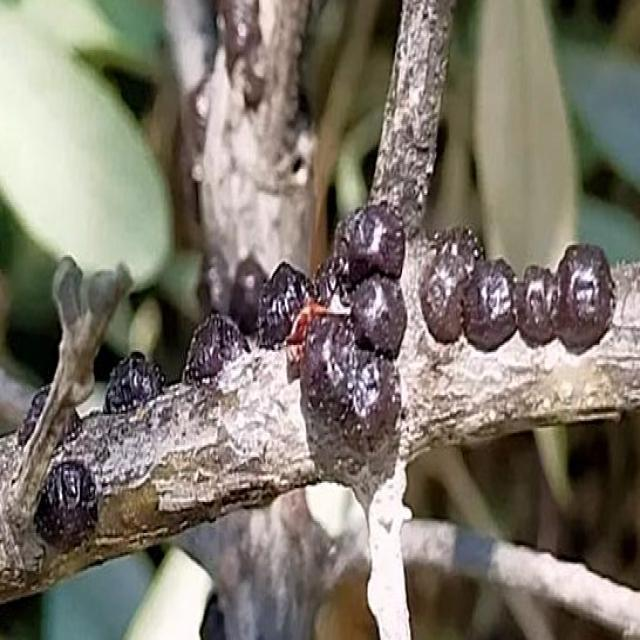BlackScale: (262, 200, 406, 457), (421, 228, 614, 352), (34, 452, 94, 552), (182, 316, 248, 383), (104, 352, 166, 412)
